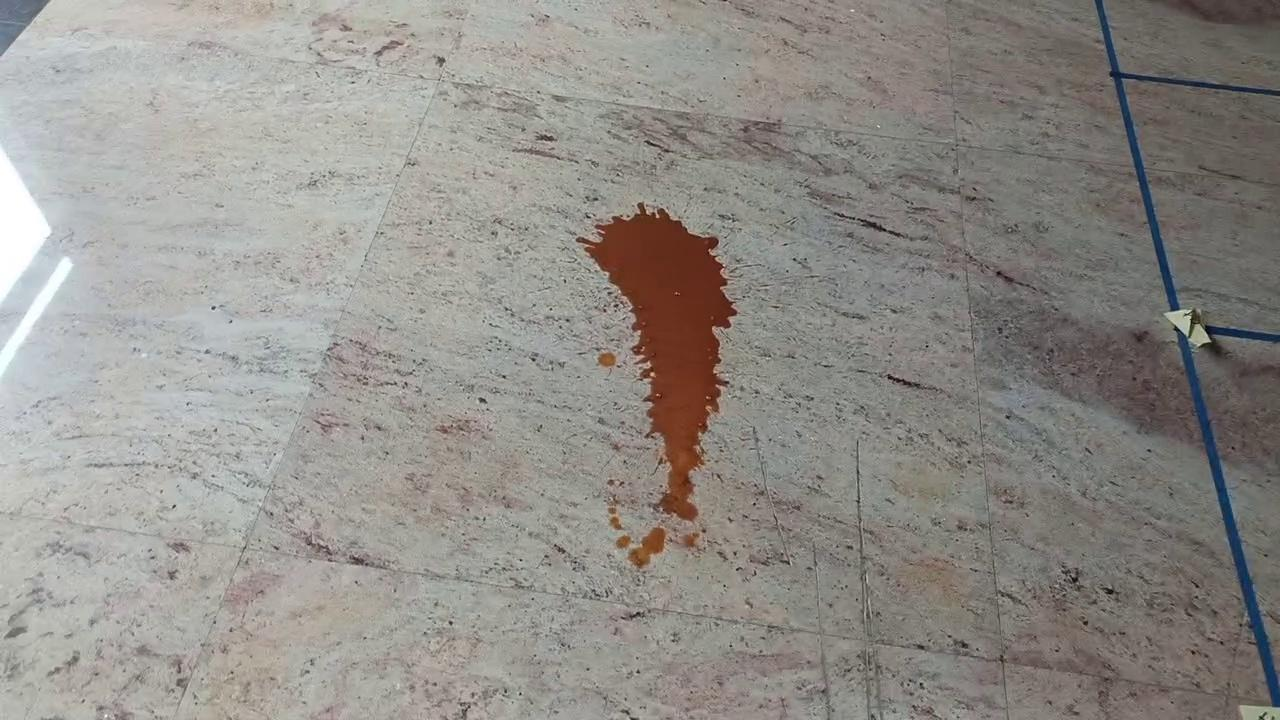dirty_floor: (574, 200, 737, 572)
